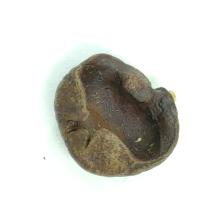NG: (75, 53, 179, 162)
